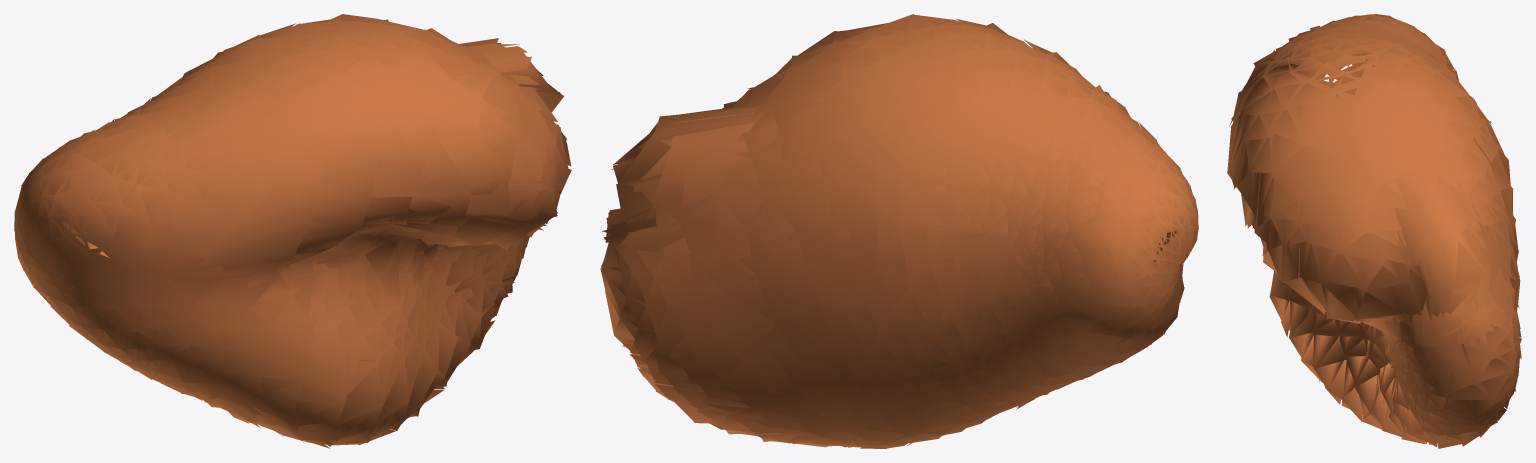
The picture shows the model from 3 angles, left to right: view 1: azimuth 30°, elevation 25°; view 2: azimuth 150°, elevation 25°; view 3: azimuth 270°, elevation 25°; orthographic projection. The views are drawn at different scales.
Parts seen in each view (by area): view 1: RetopoFlow.002_short_hair.001_short_hair; view 2: RetopoFlow.002_short_hair.001_short_hair; view 3: RetopoFlow.002_short_hair.001_short_hair.
Part boxes in pixels (x1,y1,x2,y2): RetopoFlow.002_short_hair.001_short_hair: (14,14,571,448); RetopoFlow.002_short_hair.001_short_hair: (600,14,1198,448); RetopoFlow.002_short_hair.001_short_hair: (1227,14,1521,448).
Size of the model in its own units: 2407 by 1724 by 1342.
